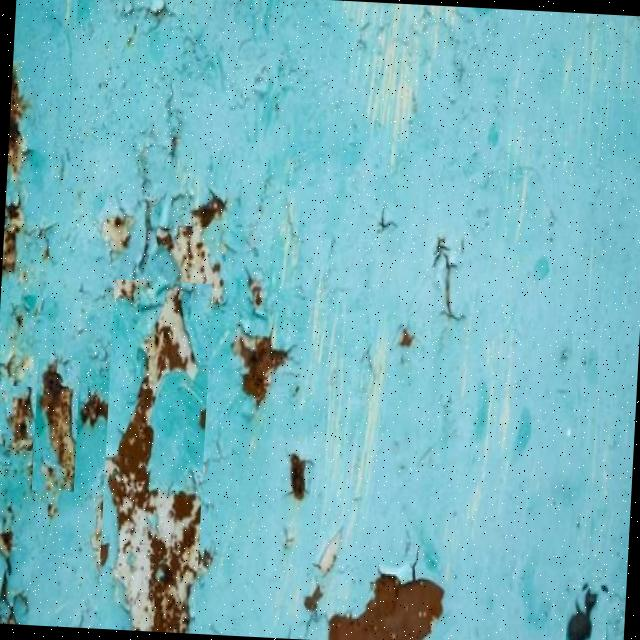Corrosion: (0, 0, 640, 640), (325, 568, 445, 640), (228, 326, 292, 408)
